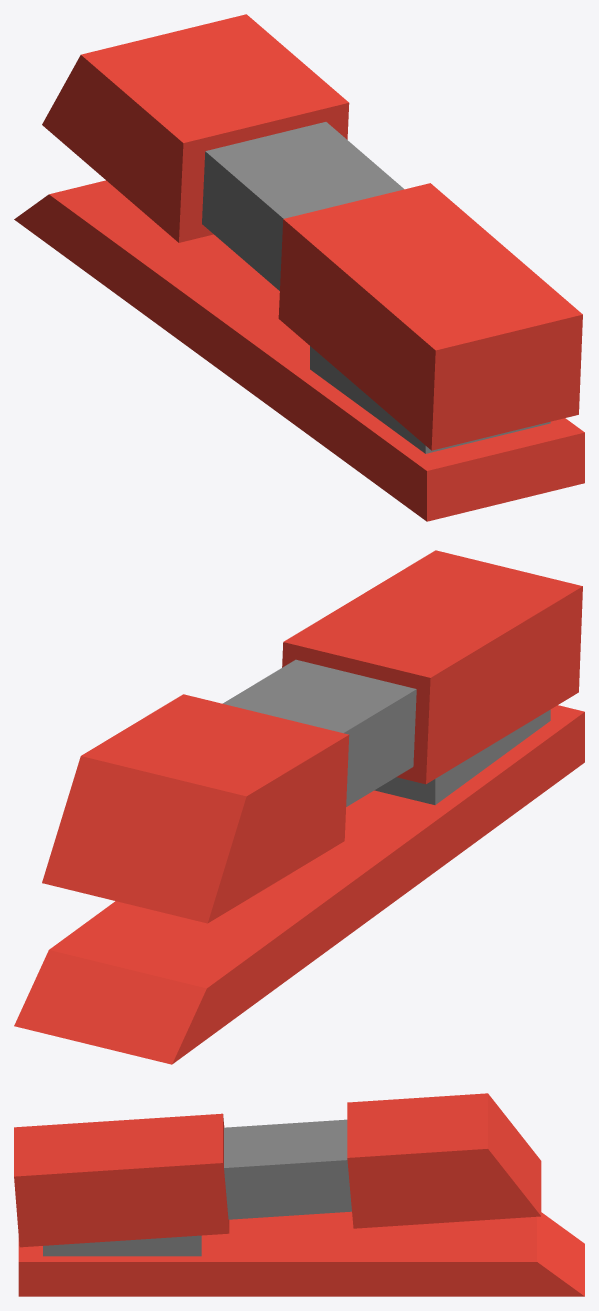
File: STAPLER.fbx
The picture shows the model from 3 angles, top to bottom: view 1: azimuth 30°, elevation 25°; view 2: azimuth 150°, elevation 25°; view 3: azimuth 270°, elevation 25°; orthographic projection. The views are drawn at different scales.
Visible parts, largest first — view 1: Stapler; view 2: Stapler; view 3: Stapler.
Part boxes in pixels (<box>): Stapler: <box>14,14,584,521</box>; Stapler: <box>14,550,584,1064</box>; Stapler: <box>14,1093,584,1296</box>.
Bounding box in the file's own units: 0.2968 × 0.3721 × 1.29.
